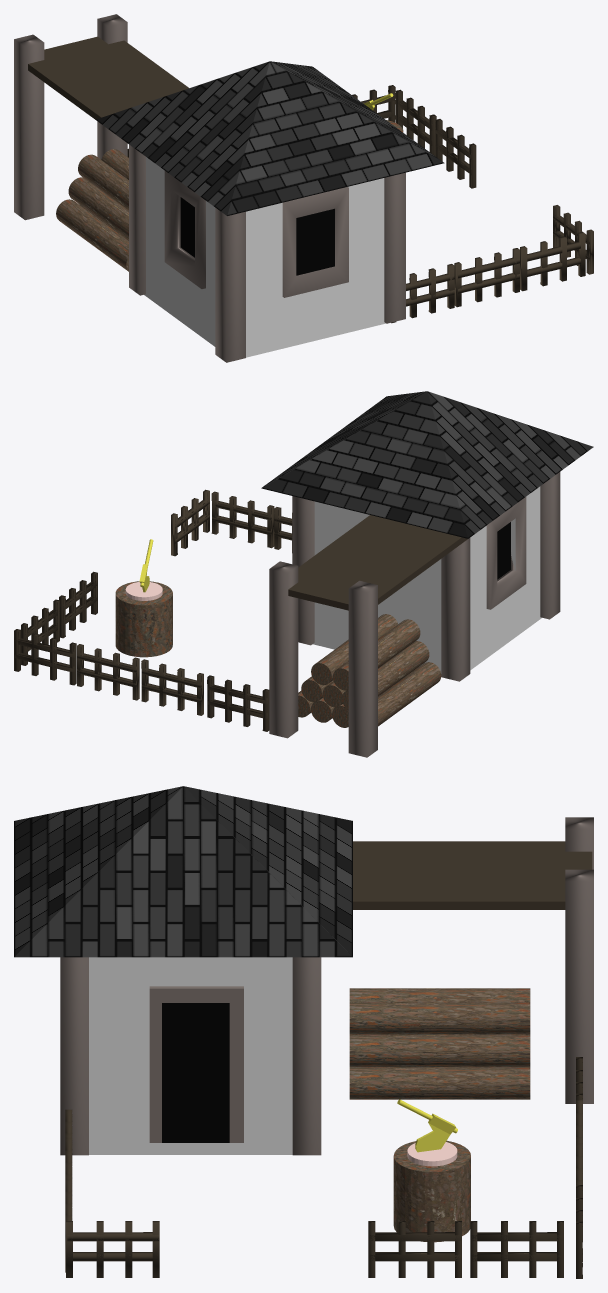
The model's file is LumberCamp.fbx.
3 renders of one model, top to bottom at view 1: azimuth 30°, elevation 25°; view 2: azimuth 150°, elevation 25°; view 3: azimuth 270°, elevation 25°, orthographic. The views are drawn at different scales.
Parts seen in each view (by area): view 1: Cube.001, Body, Cube, Cylinder.008, Frame.005, Frame.003, Cube.002, Frame.002, Cube.003, Frame.001, Cube.005, Frame.067 (+8 smaller); view 2: Cube.001, Body, Cube, Cylinder.008, Frame.005, Frame.004, Cylinder, Frame.001, Frame.003, Cube.003, Frame, Frame.060 (+9 smaller); view 3: Cube.001, Body, Cylinder.008, Cube, Cube.007, Cylinder, Frame.004, Frame, Cube.004, Frame.002, Frame.041, Frame.042 (+4 smaller).
Boxes of the visible parts, x1,y1,x2,y2 form: Cube.001: (96, 61, 444, 215); Body: (144, 157, 385, 357); Cube: (28, 36, 188, 119); Cylinder.008: (56, 149, 128, 271); Frame.005: (14, 34, 44, 220); Frame.003: (215, 208, 245, 362); Cube.002: (282, 187, 348, 297); Frame.002: (384, 172, 405, 323); Cube.003: (164, 171, 205, 288); Frame.001: (129, 144, 145, 295); Cube.005: (296, 208, 334, 275); Frame.067: (454, 248, 519, 307); Cube.001: (261, 391, 593, 538); Body: (313, 486, 541, 673); Cube: (288, 515, 467, 610); Cylinder.008: (298, 614, 441, 727); Frame.005: (348, 580, 377, 757); Frame.004: (269, 561, 298, 738); Cylinder: (115, 581, 172, 657); Frame.001: (441, 538, 470, 681); Frame.003: (540, 472, 560, 619); Cube.003: (486, 497, 526, 609); Frame: (292, 496, 314, 645); Frame.060: (141, 659, 203, 715); Cube.001: (14, 786, 352, 957); Body: (89, 957, 292, 1154); Cylinder.008: (349, 988, 530, 1099); Cube: (353, 841, 592, 909); Cube.007: (162, 1003, 229, 1142); Cylinder: (393, 1140, 470, 1242); Frame.004: (565, 869, 593, 1103); Frame: (292, 957, 321, 1155); Cube.004: (149, 986, 243, 1142); Frame.002: (60, 957, 88, 1155); Frame.041: (368, 1221, 461, 1277); Frame.042: (66, 1221, 159, 1277).
Size of the model in its own units: 208 by 127 by 210.
